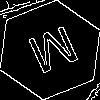M: (25, 25, 86, 83)
